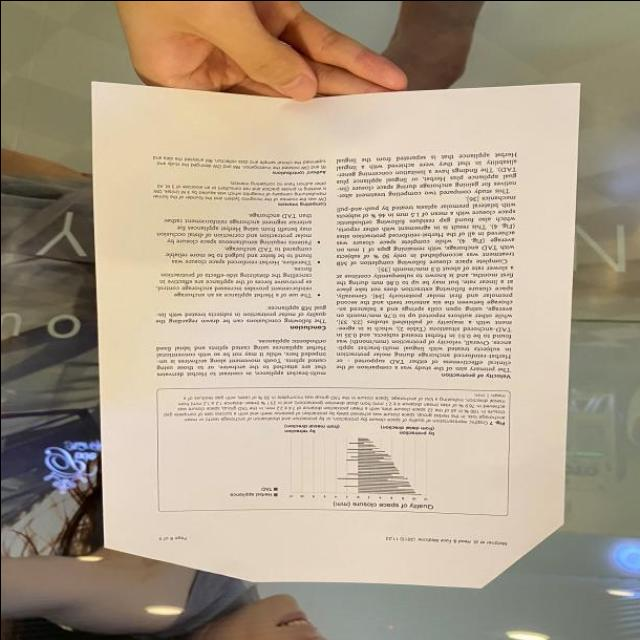kertas: (89, 82, 578, 586)
